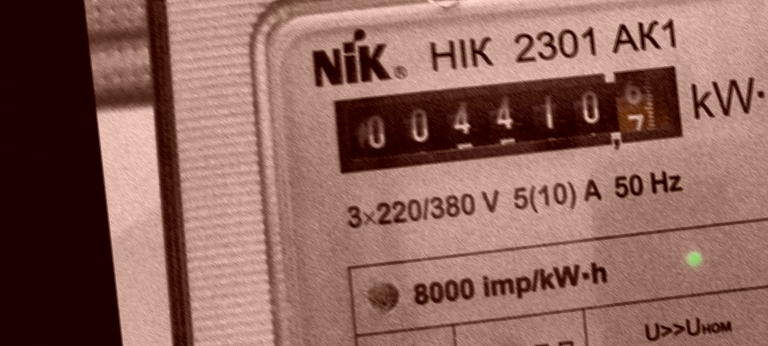0: (362, 112, 387, 152), (577, 89, 601, 127), (407, 106, 429, 146)
1: (538, 94, 556, 132)
4: (490, 94, 516, 135), (447, 98, 473, 138)
6: (623, 79, 643, 107)
7: (624, 112, 645, 134)
screen: (319, 50, 696, 189)
